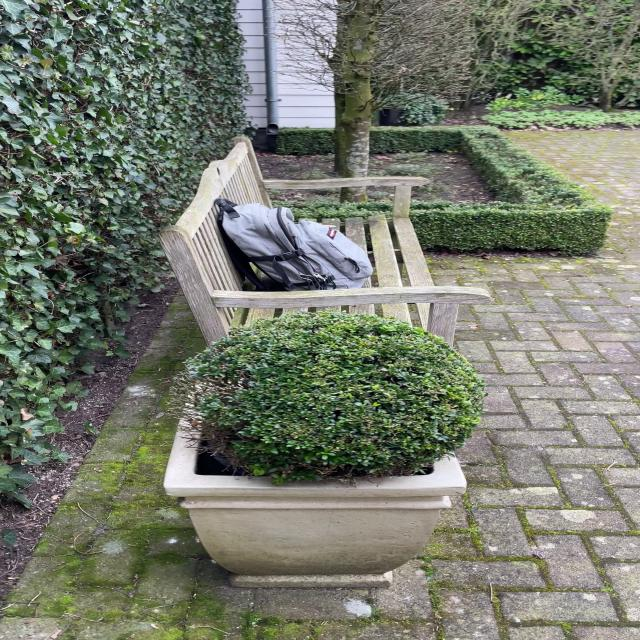backpack: (205, 197, 378, 292)
